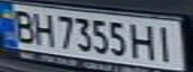3: (72, 16, 93, 53)
5: (106, 19, 130, 58), (90, 17, 109, 55)
7: (51, 14, 75, 50)
B: (6, 7, 39, 44)
H: (127, 21, 160, 61), (30, 10, 57, 47)
I: (151, 22, 181, 63)
